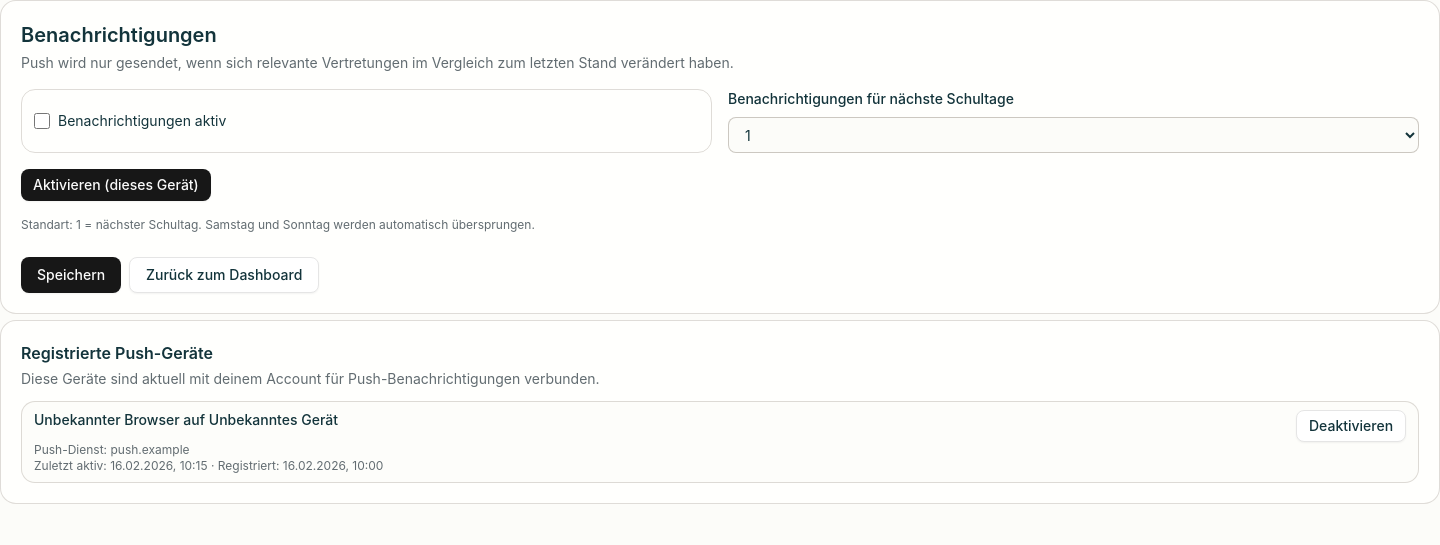
UserSettingsPanel current-device push control › activates current device and flips to active status
Click the button "Aktivieren (dieses Gerät)".
click(116, 185)  # box left=21, top=169, right=211, bottom=201
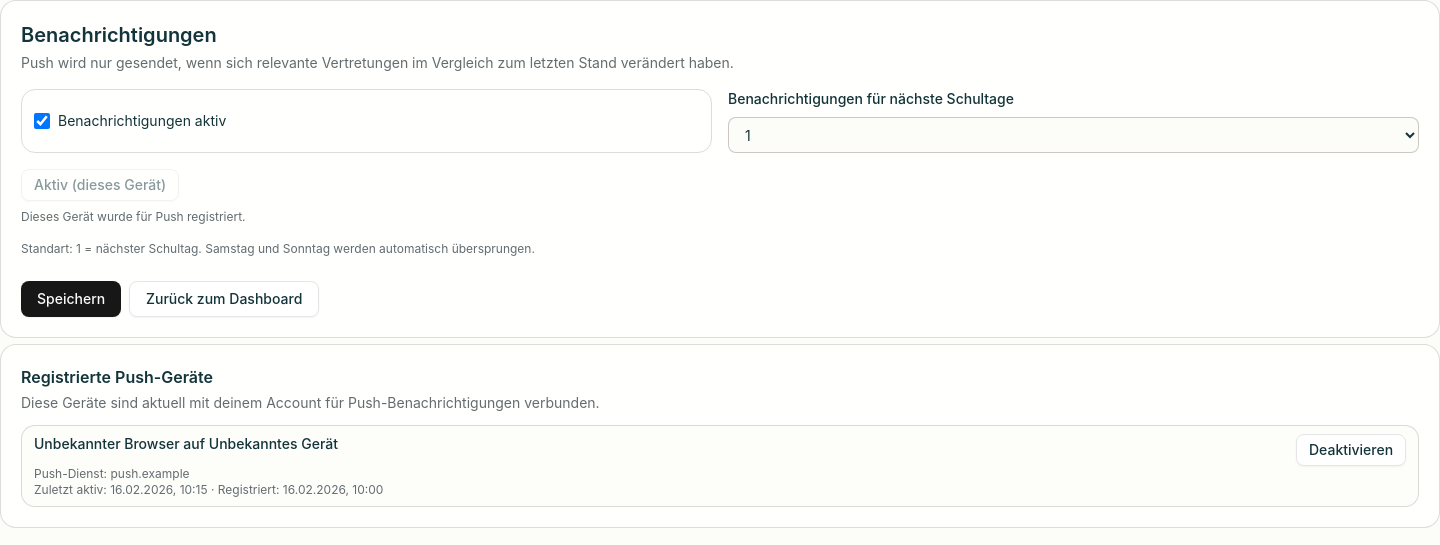
Expected: the button "Aktiv (dieses Gerät)" is disabled, left=21, top=169, right=179, bottom=201
Expected: the text "Dieses Gerät wurde für Push registriert." is shown, left=21, top=209, right=246, bottom=224
